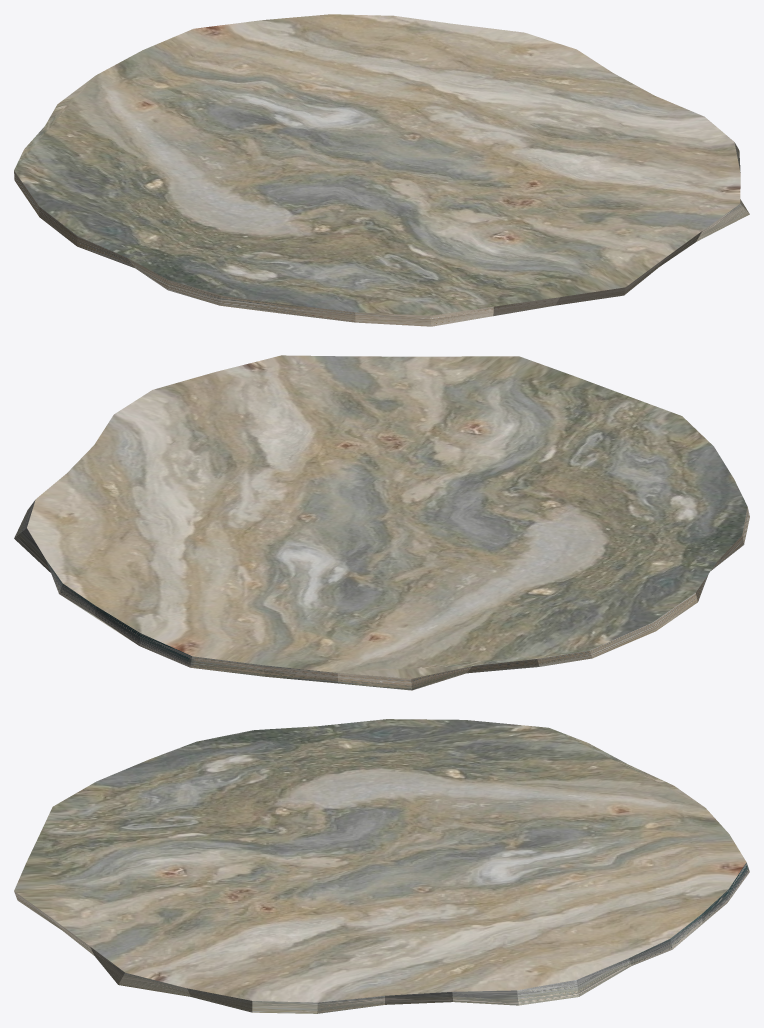
Rendered from musilage.glb.
The picture shows the model from 3 angles, top to bottom: view 1: azimuth 30°, elevation 25°; view 2: azimuth 150°, elevation 25°; view 3: azimuth 270°, elevation 25°; orthographic projection. The views are drawn at different scales.
Parts seen in each view (by area): view 1: Cylinder; view 2: Cylinder; view 3: Cylinder.
Boxes of the visible parts, <box> form: Cylinder: <box>14,14,749,326</box>; Cylinder: <box>14,355,749,690</box>; Cylinder: <box>14,719,749,1013</box>.
Size of the model in its own units: 1.94 by 0.062 by 2.11.
Materials: 1 (1 with a texture image).
